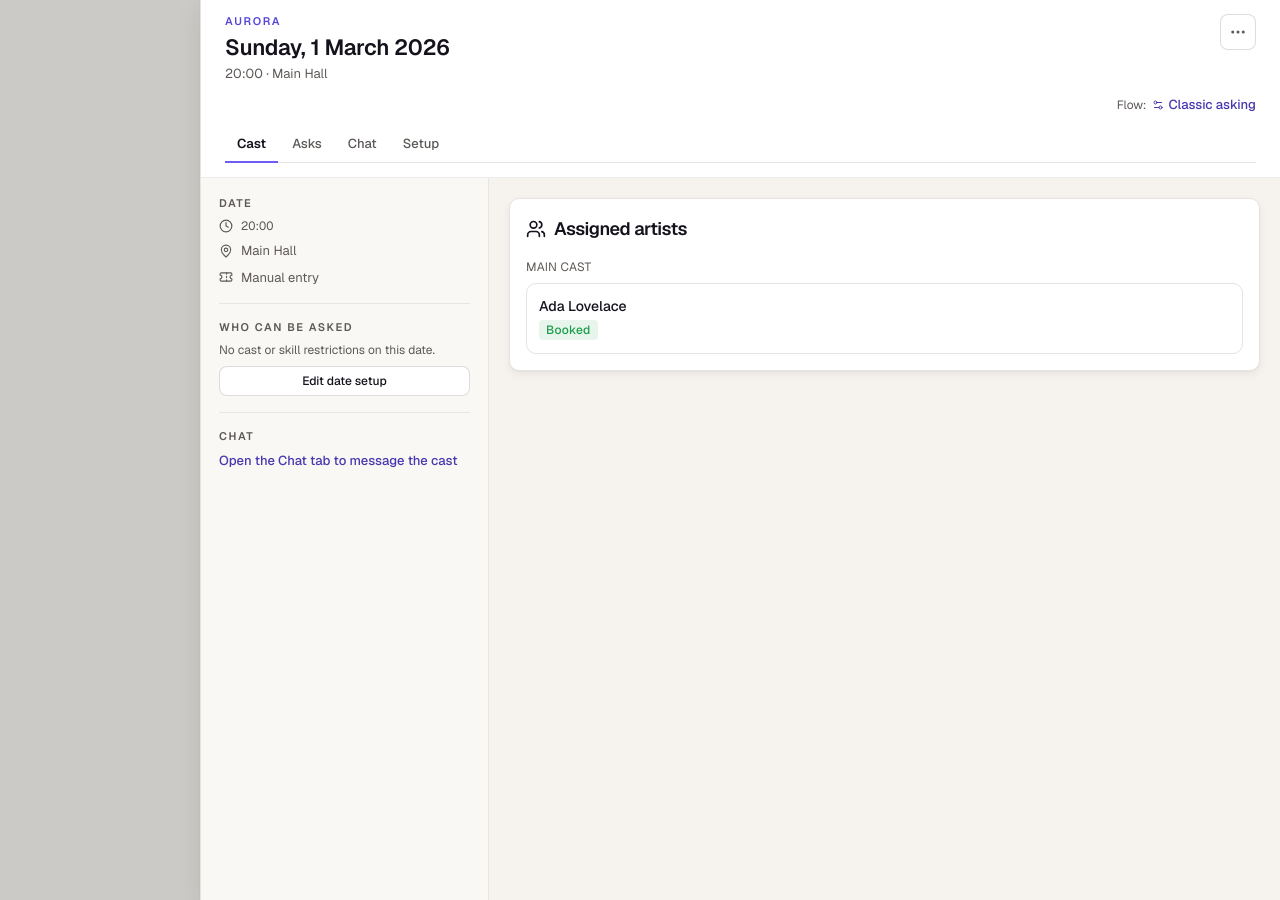
Test: ShowDateDetailSheet cockpit booking_flow gating › booking_flow off: the Offers tab replaces the offers UI with the module notice
Click the button "Asks" at (307, 145), box [280,127,334,163]
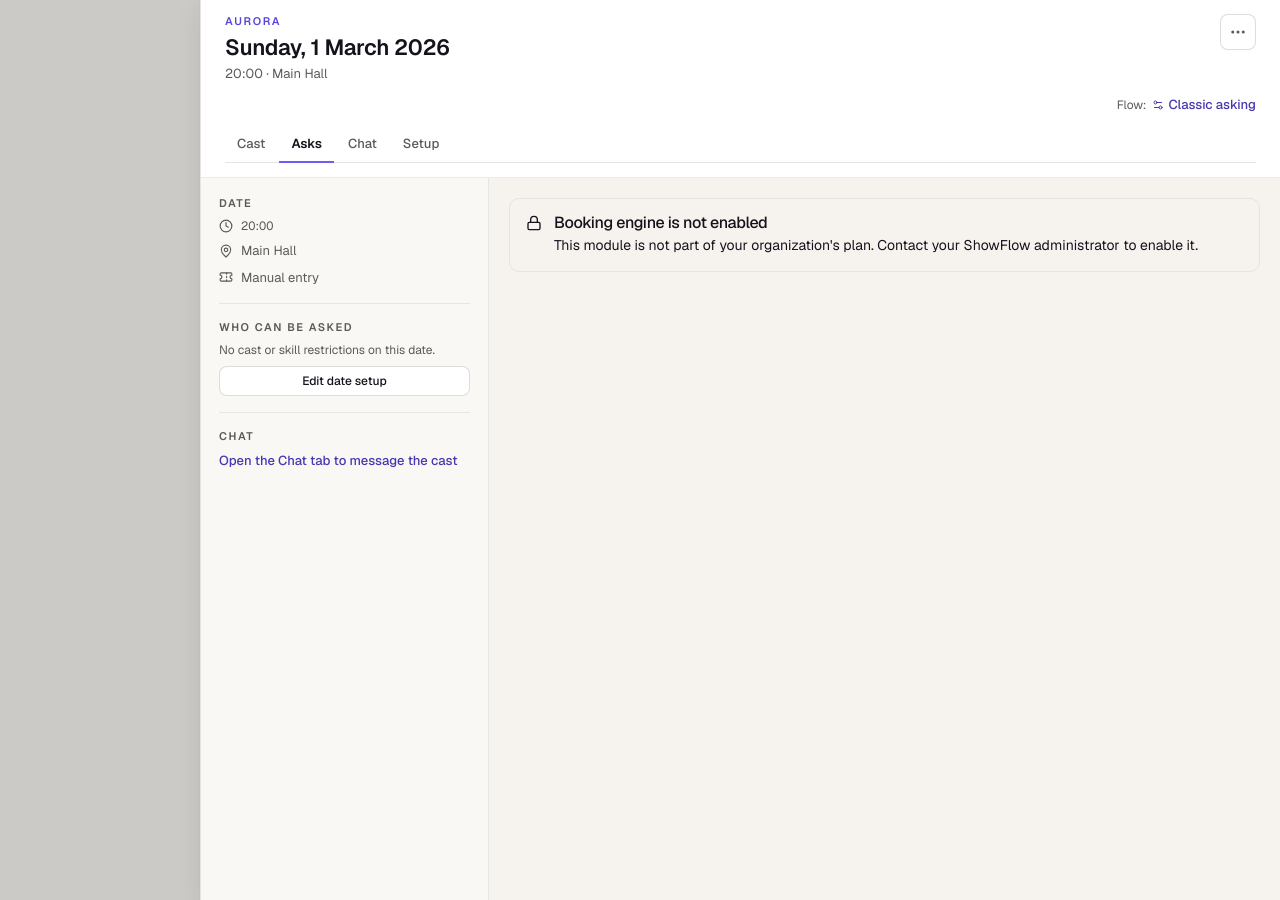
Check: the element with test id "module-gate-booking_flow" is shown, box [509,198,1260,272]
